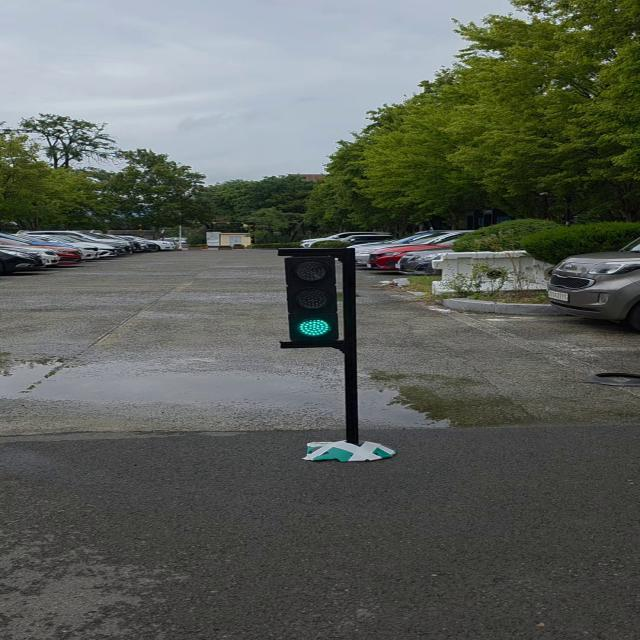green: (286, 247, 357, 346)
